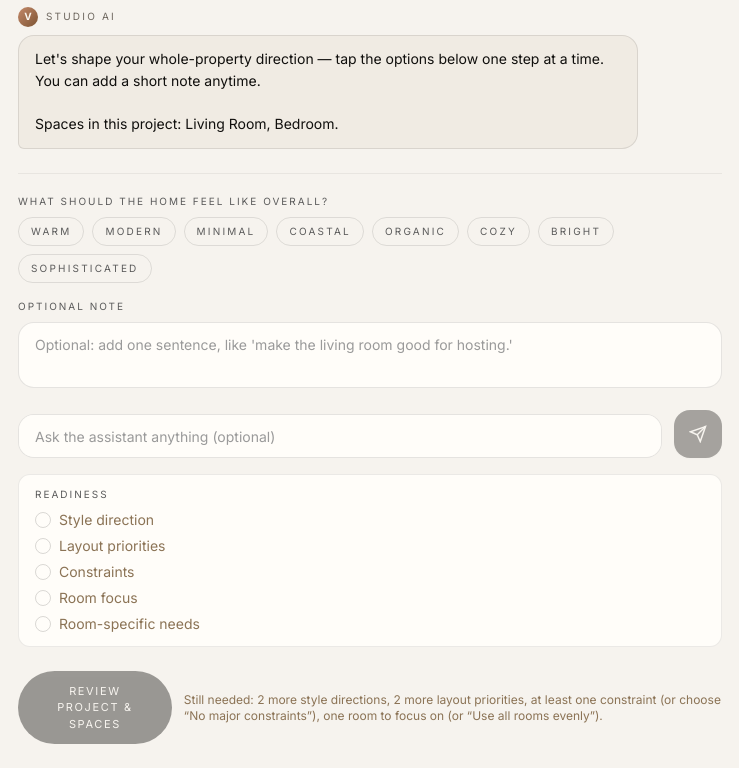
Test: ProjectVisionIntake guided flow › does not stack duplicate save-status cards when assistant API fails twice
The width and height of the screenshot is (739, 768).
(page scrolled)
In the text box with placeholder "Ask the assistant anything (optional)": (340, 436) [18, 414, 662, 458], type "add a storage-focused area"
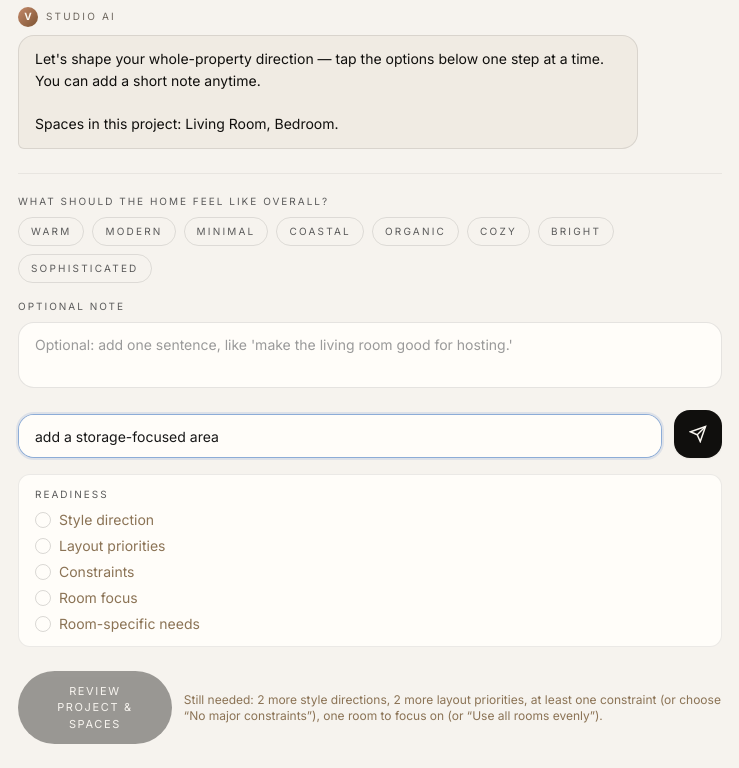
Click the button named "Send": (698, 434) [674, 410, 722, 458]
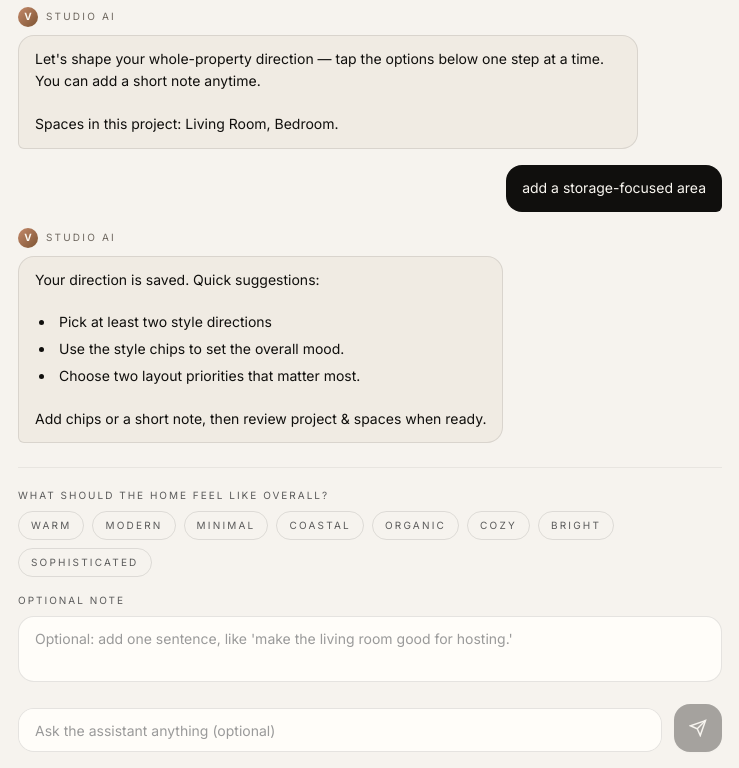
Check: the text "Your direction is saved. Quick suggestions:" is shown once, box [35, 271, 320, 288]
In the text box with placeholder "Ask the assistant anything (optional)": (340, 730) [18, 708, 662, 752], type "make sure it is host-focused"
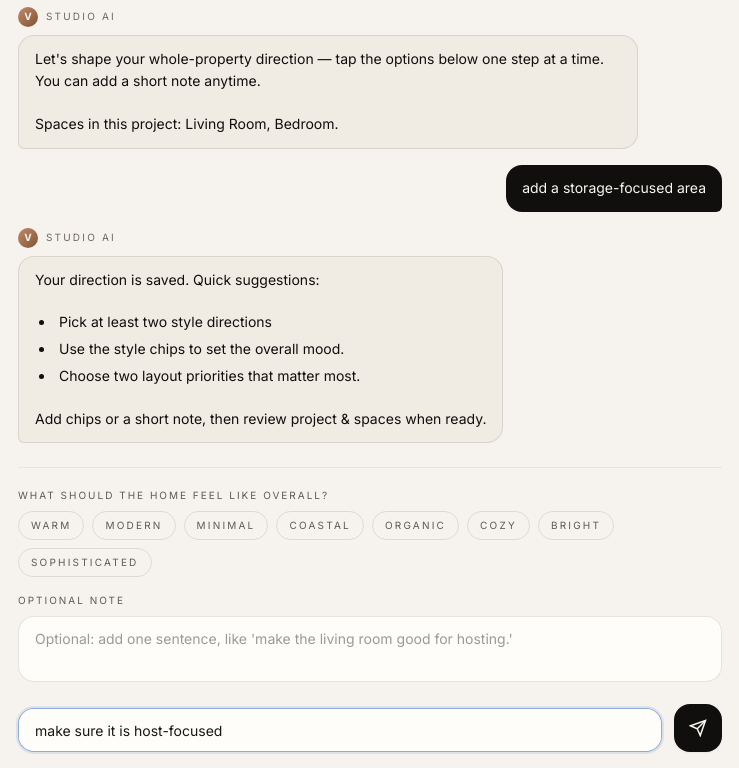
Click the button named "Send": (698, 728) [674, 704, 722, 752]
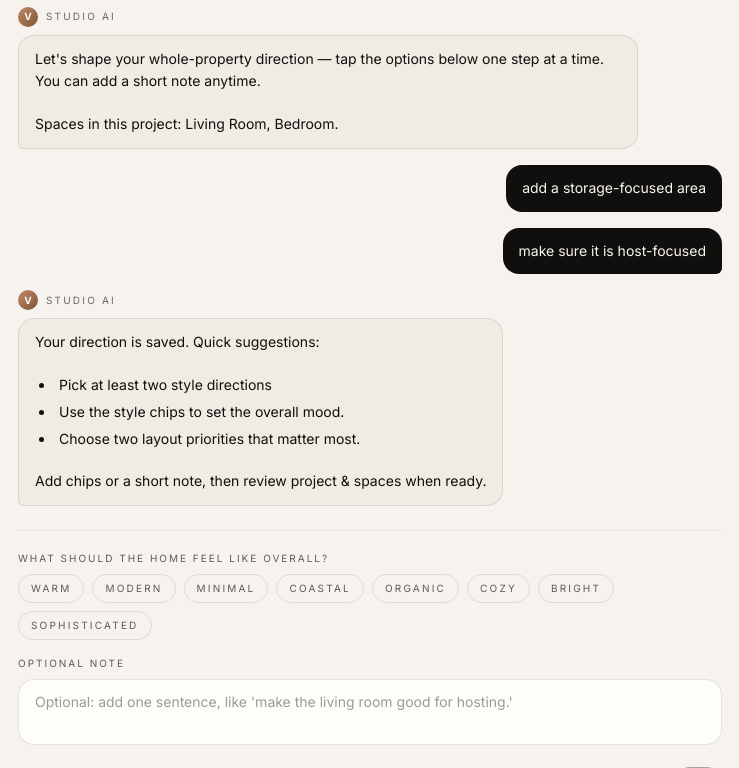
Check: the text "Your direction is saved. Quick suggestions:" is shown once, box [35, 334, 320, 350]
